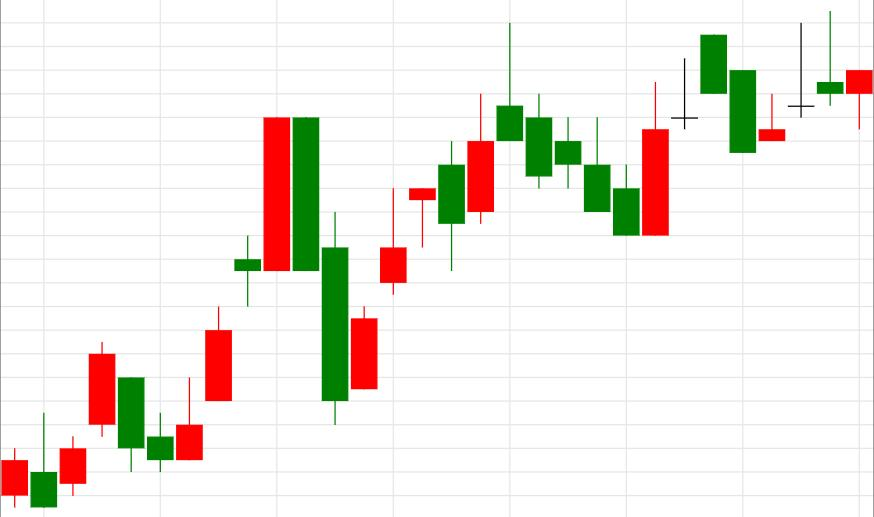shooting_star_fall: (351, 23, 524, 390)
